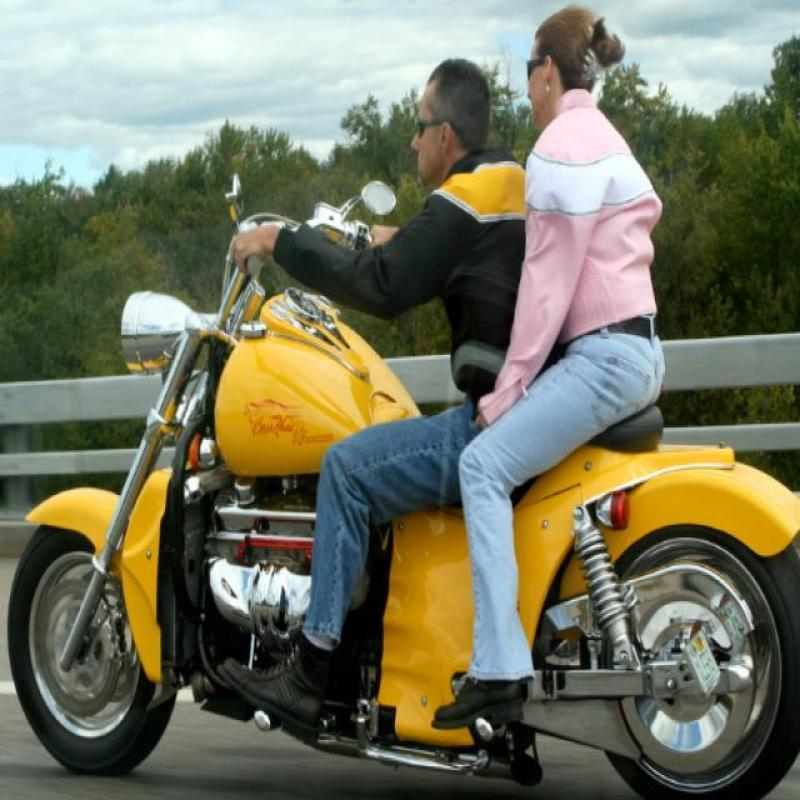nohelmet: (518, 5, 632, 119), (408, 53, 498, 176)
